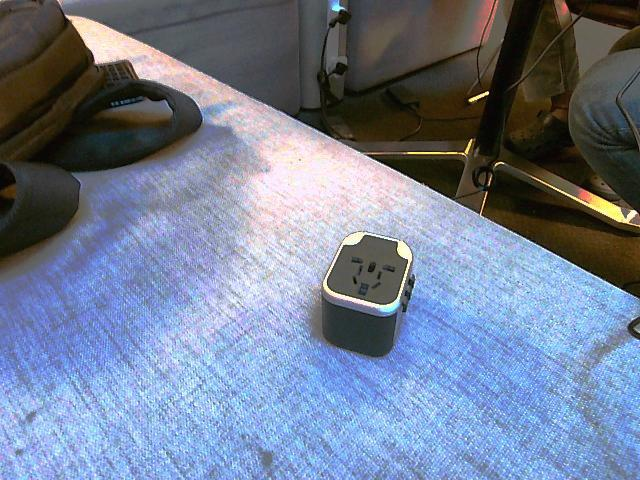adapter: (319, 230, 415, 358)
